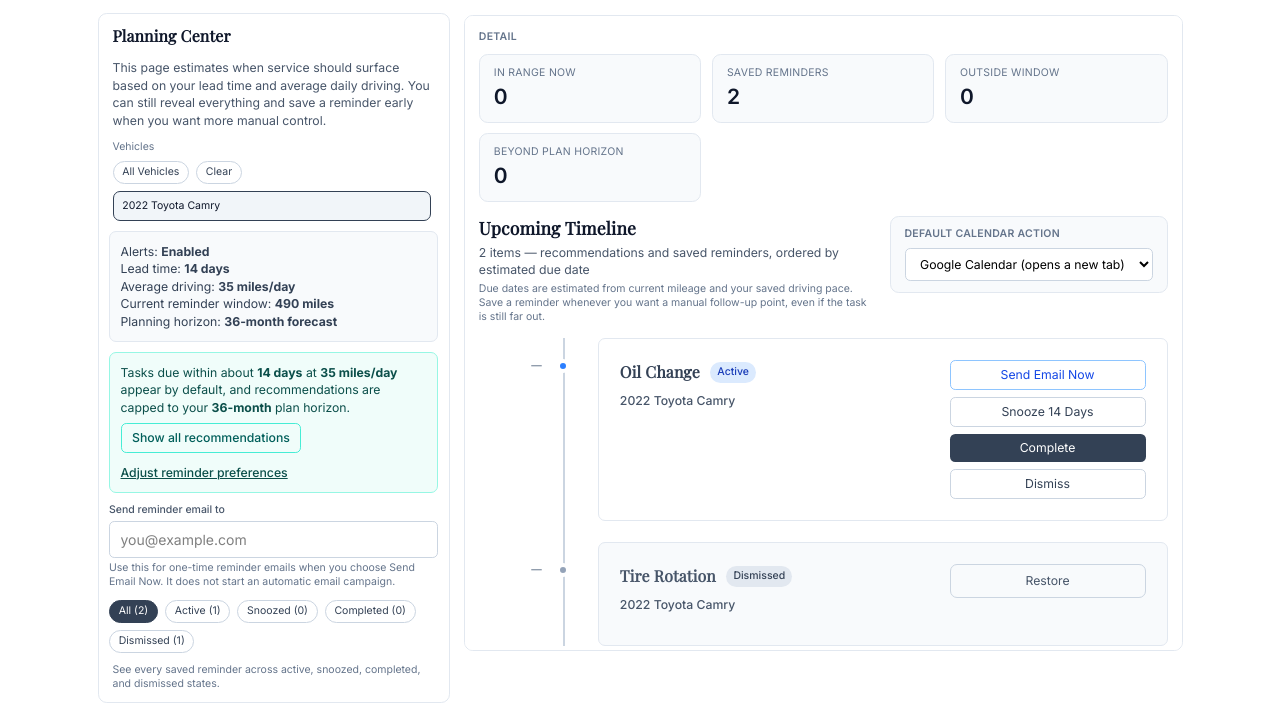
Test: UpcomingTasks reminder actions › filter buttons change which reminders are visible
(page scrolled)
expect the heading "Oil Change" is shown: met, box x1=620 y1=360 x2=700 y2=384
# Dismissed filter — should hide active reminder
Click the button "Dismissed (1)" at (152, 641), box x1=109 y1=630 x2=194 y2=652
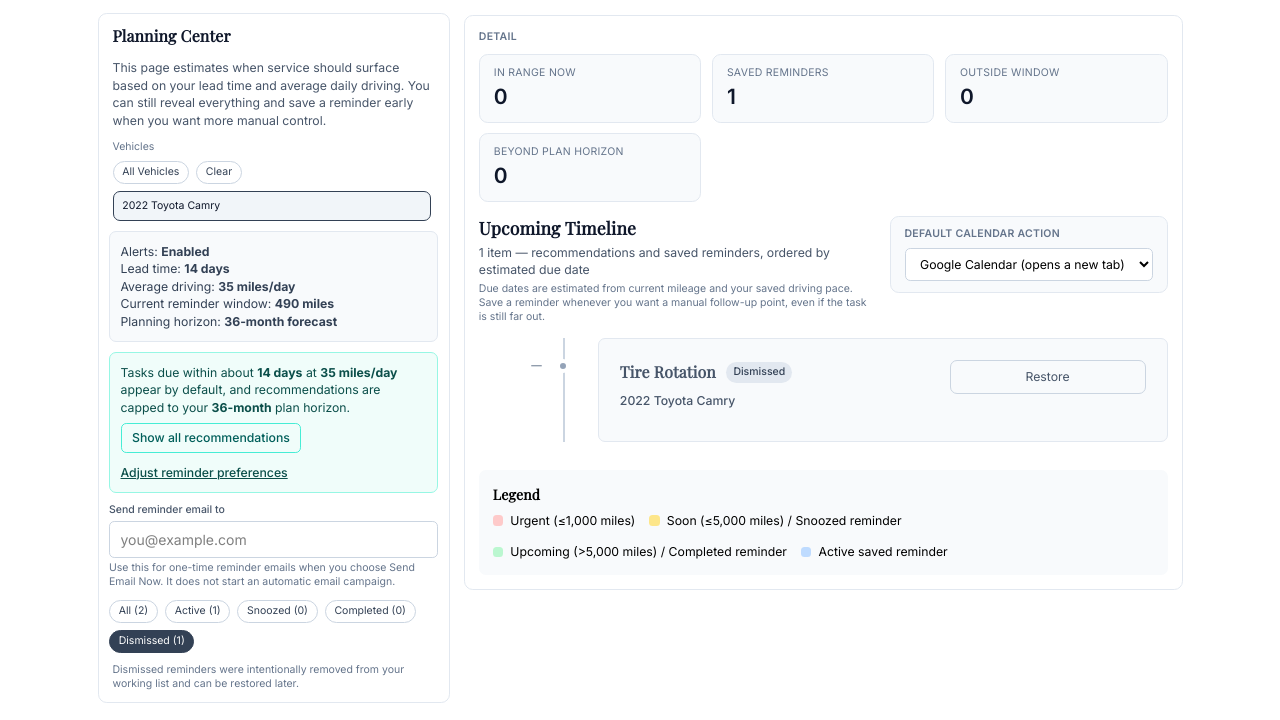
expect the heading "Tire Rotation" is shown: met, box x1=620 y1=360 x2=716 y2=384
expect the heading "Oil Change" is gone: met
# Active filter — should show only active
Click the button "Active (1)" at (198, 611), box x1=165 y1=600 x2=230 y2=622
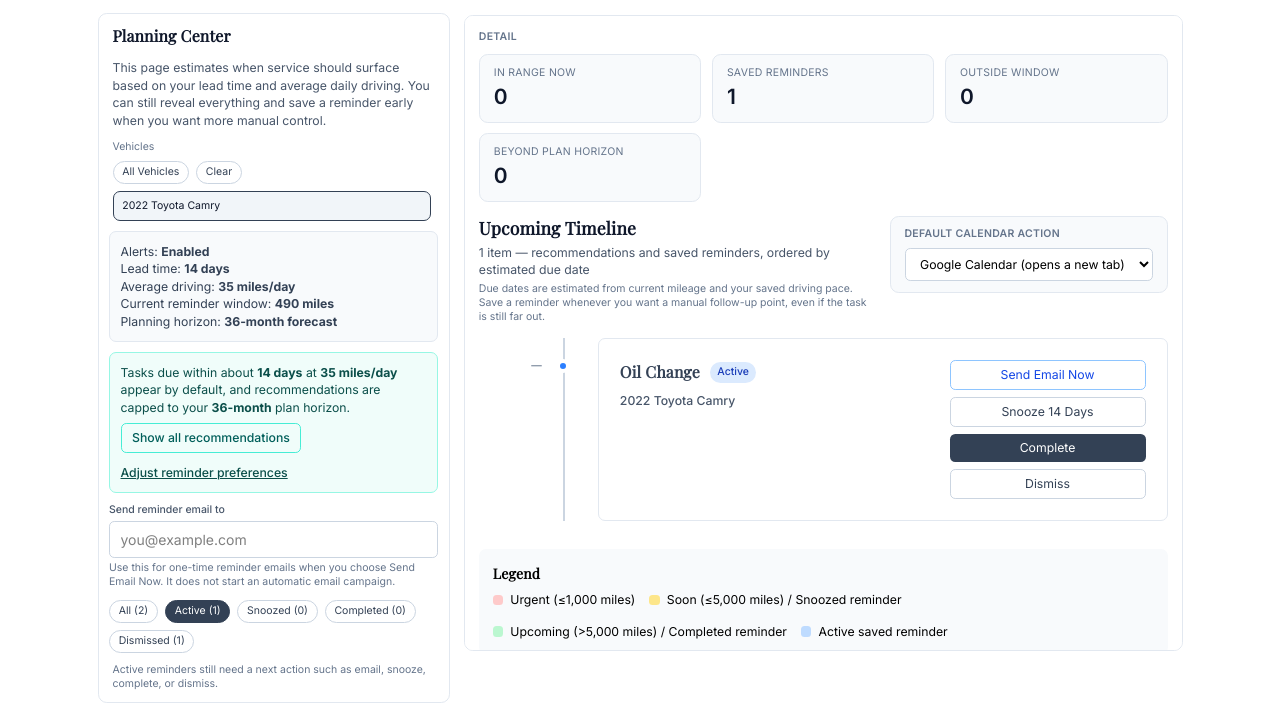
expect the heading "Oil Change" is shown: met, box x1=620 y1=360 x2=700 y2=384
expect the heading "Tire Rotation" is gone: met
